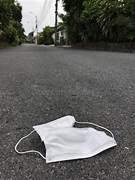Mask: (15, 116, 116, 162)
